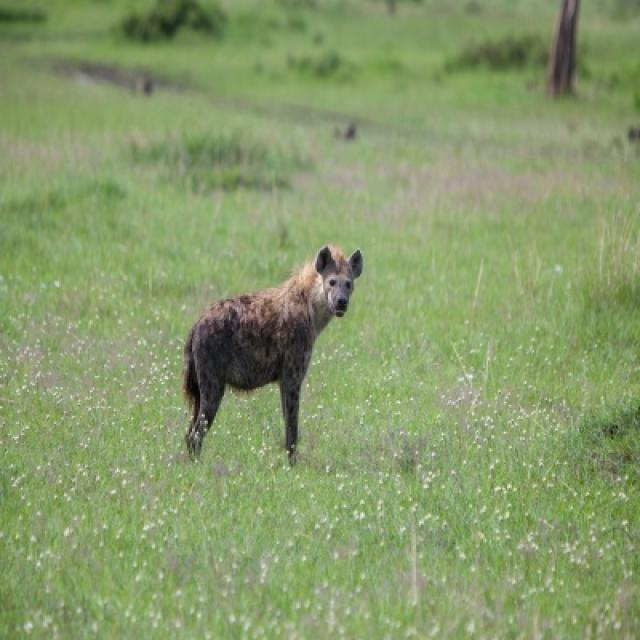hyena: (182, 245, 365, 464)
